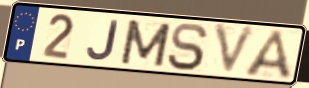2: (41, 12, 76, 61)
A: (241, 28, 295, 81)
J: (85, 18, 121, 62)
M: (117, 18, 173, 69)
S: (165, 22, 211, 73)
V: (212, 22, 260, 79)
